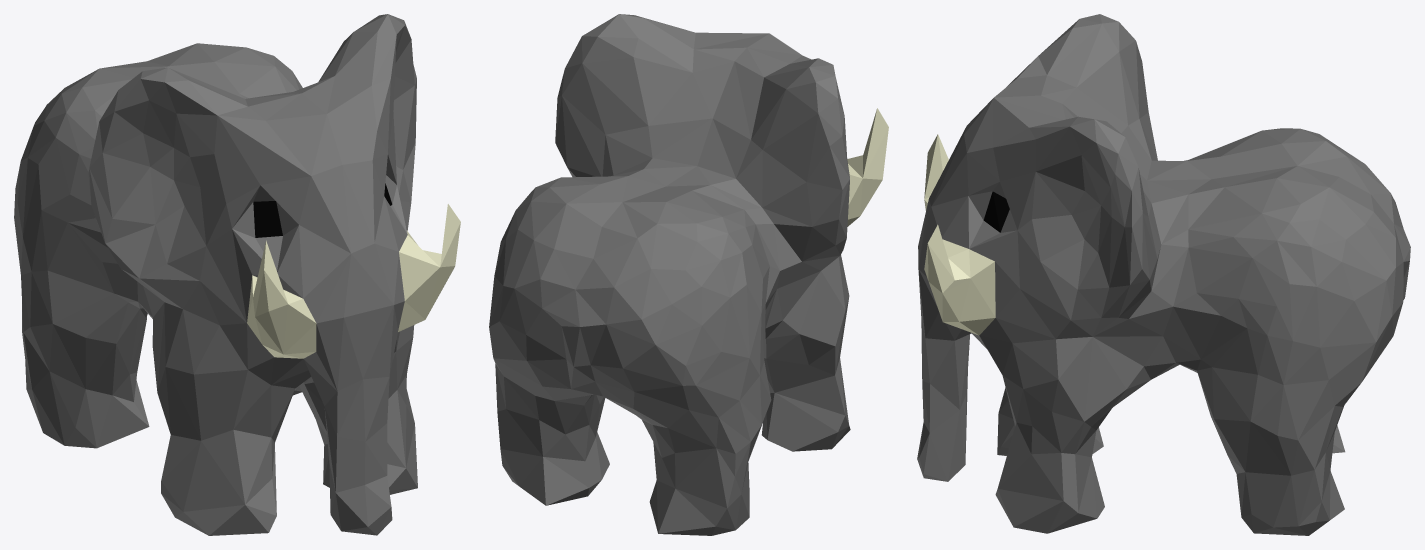
Rendered from Elephant.fbx.
3 renders of one model, left to right at view 1: azimuth 30°, elevation 25°; view 2: azimuth 150°, elevation 25°; view 3: azimuth 270°, elevation 25°, orthographic. The views are drawn at different scales.
Visible parts, largest first — view 1: Low Poly Elephant; view 2: Low Poly Elephant; view 3: Low Poly Elephant.
Boxes of the visible parts, <box> form: Low Poly Elephant: <box>14,14,460,535</box>; Low Poly Elephant: <box>489,14,888,535</box>; Low Poly Elephant: <box>917,14,1410,535</box>.
Bounding box in the file's own units: 4475 × 5747 × 6209.
